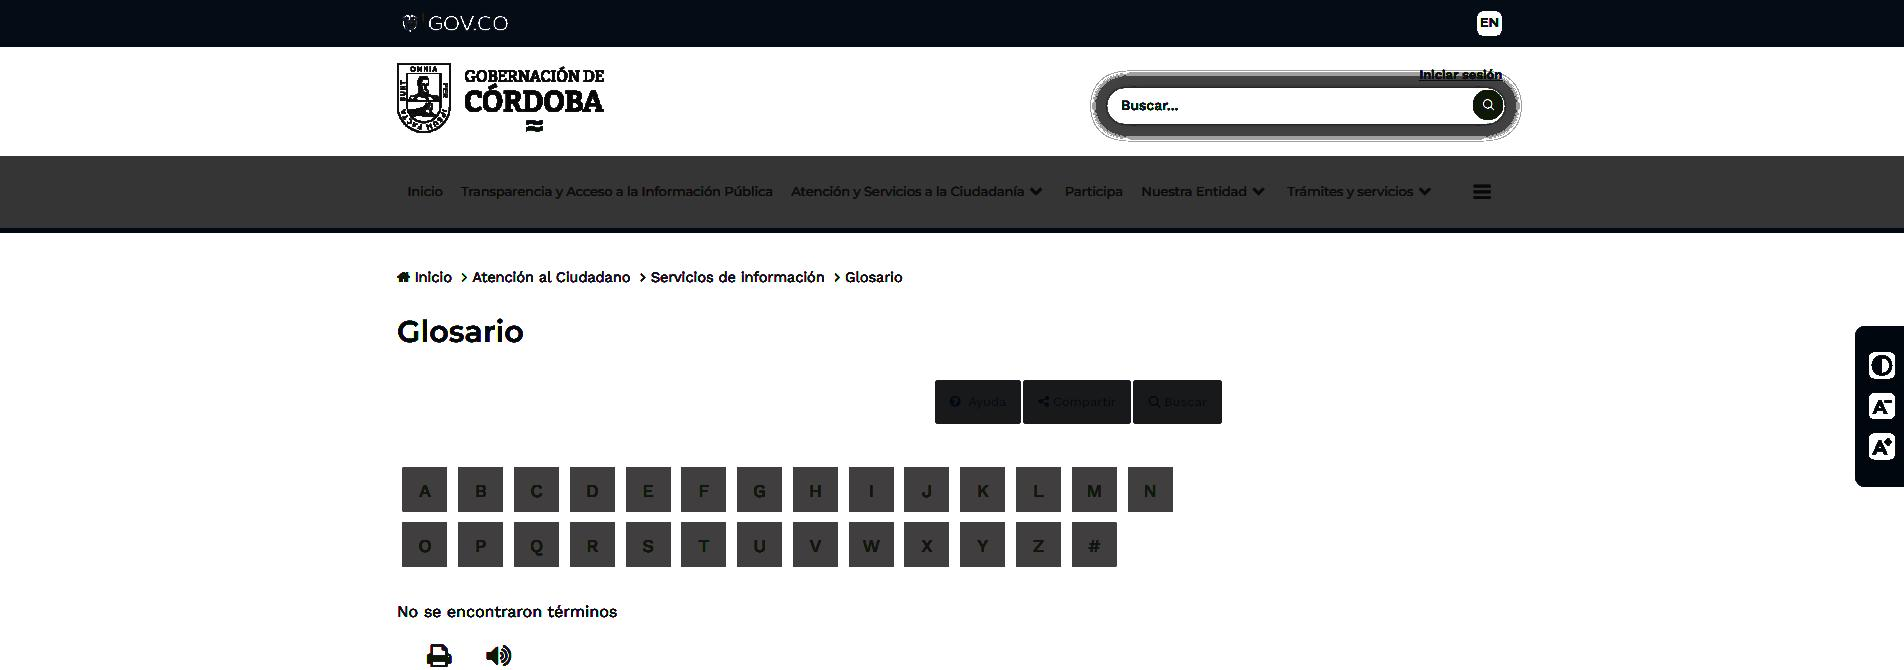barra accesibilidad: (1852, 322, 1904, 489)
barra govco: (395, 2, 1507, 50)
btn atencion ciudadano: (789, 179, 1045, 201), (467, 265, 634, 290)
btn buscador: (1103, 84, 1506, 132), (1144, 391, 1165, 414)
btn entidad: (1136, 181, 1267, 203)
btn idiomas: (1477, 9, 1503, 36)
btn inicio: (402, 182, 447, 201)
btn inicio sesion: (1417, 67, 1503, 83)
btn participa: (1062, 182, 1127, 202)
btn tramites: (1284, 181, 1435, 203)
btn transpariencia: (458, 181, 778, 205)
logogovco: (398, 9, 513, 37)
menu principal: (402, 154, 1500, 211)
